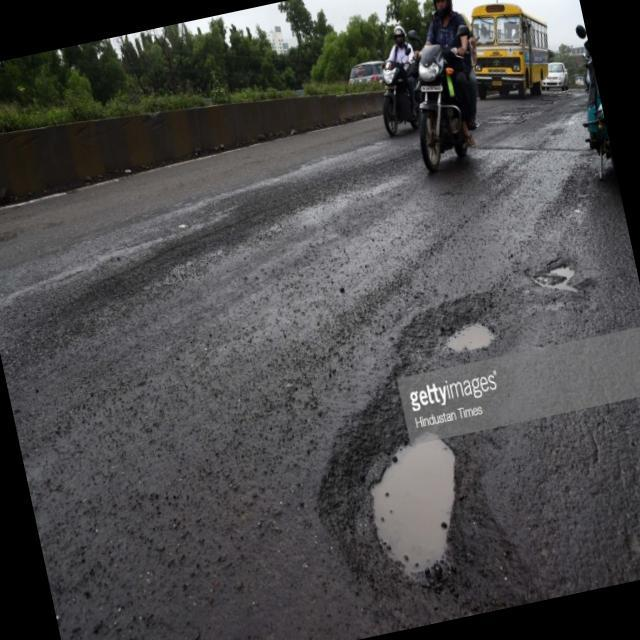Pothole: (310, 409, 504, 601), (430, 298, 508, 364), (532, 255, 584, 302)
